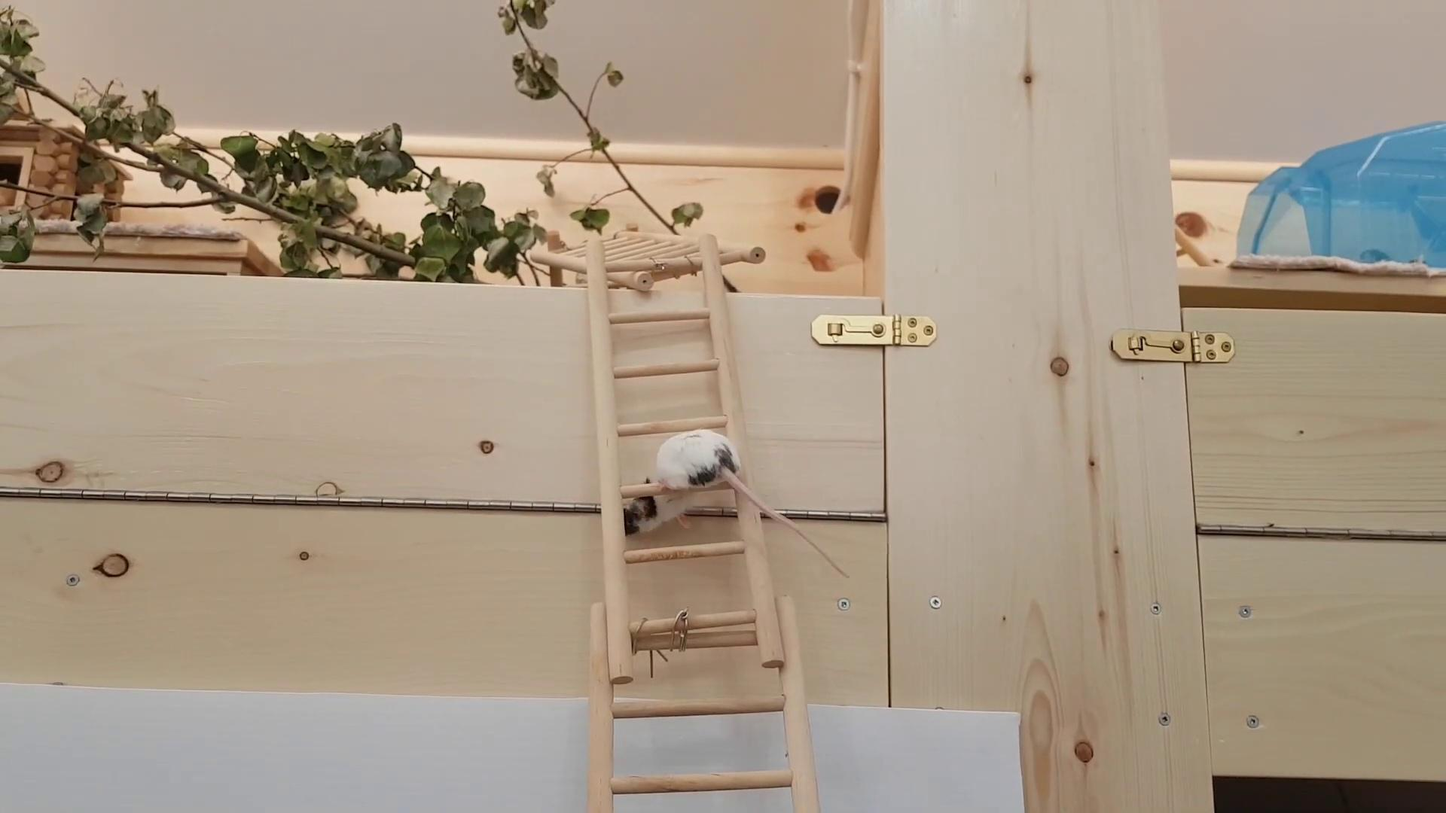rat: (621, 427, 852, 577)
